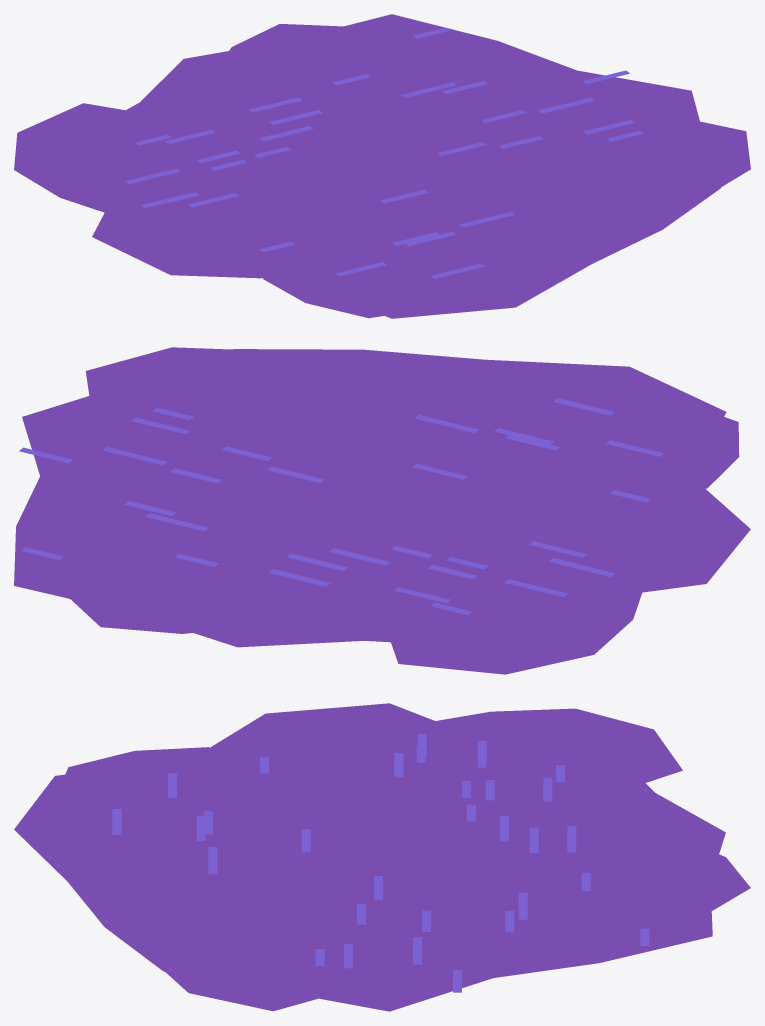
Rendered from gust.glb.
3 renders of one model, top to bottom at view 1: azimuth 30°, elevation 25°; view 2: azimuth 150°, elevation 25°; view 3: azimuth 270°, elevation 25°, orthographic. The views are drawn at different scales.
Visible parts, largest first — view 1: Mesh; view 2: Mesh; view 3: Mesh.
Boxes of the visible parts, left/top/right/bottom form: Mesh: left=14, top=14, right=750, bottom=318; Mesh: left=14, top=347, right=750, bottom=674; Mesh: left=14, top=703, right=750, bottom=1011.
Bounding box in the file's own units: 11.29 × 0.05 × 11.4.
